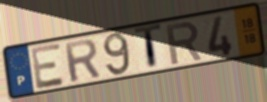4: (206, 13, 235, 58)
9: (101, 31, 132, 77)
E: (29, 41, 67, 91)
R: (62, 37, 103, 84), (165, 20, 205, 67)
T: (132, 22, 164, 72)
